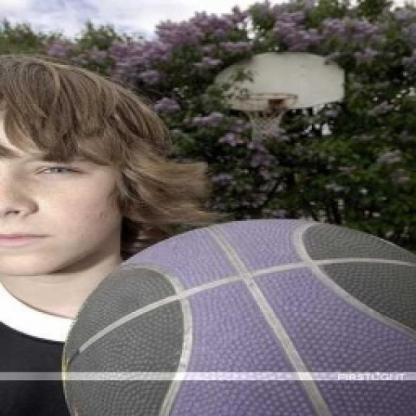basketball: (60, 214, 416, 416)
